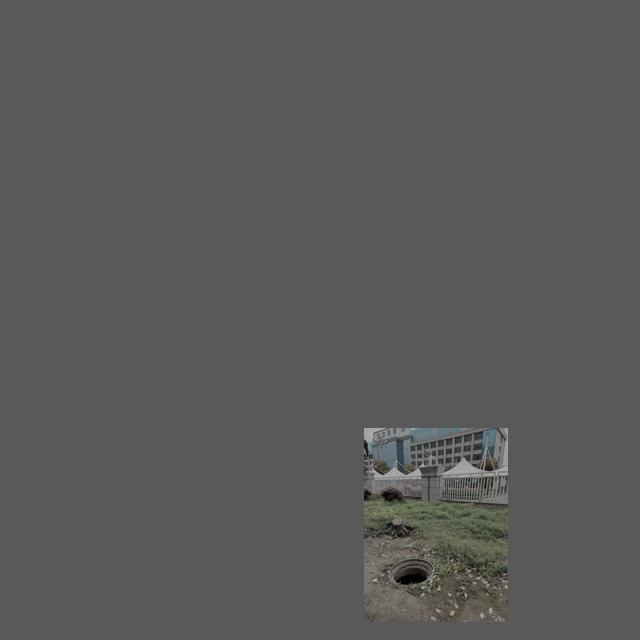lose: (390, 558, 436, 586)
